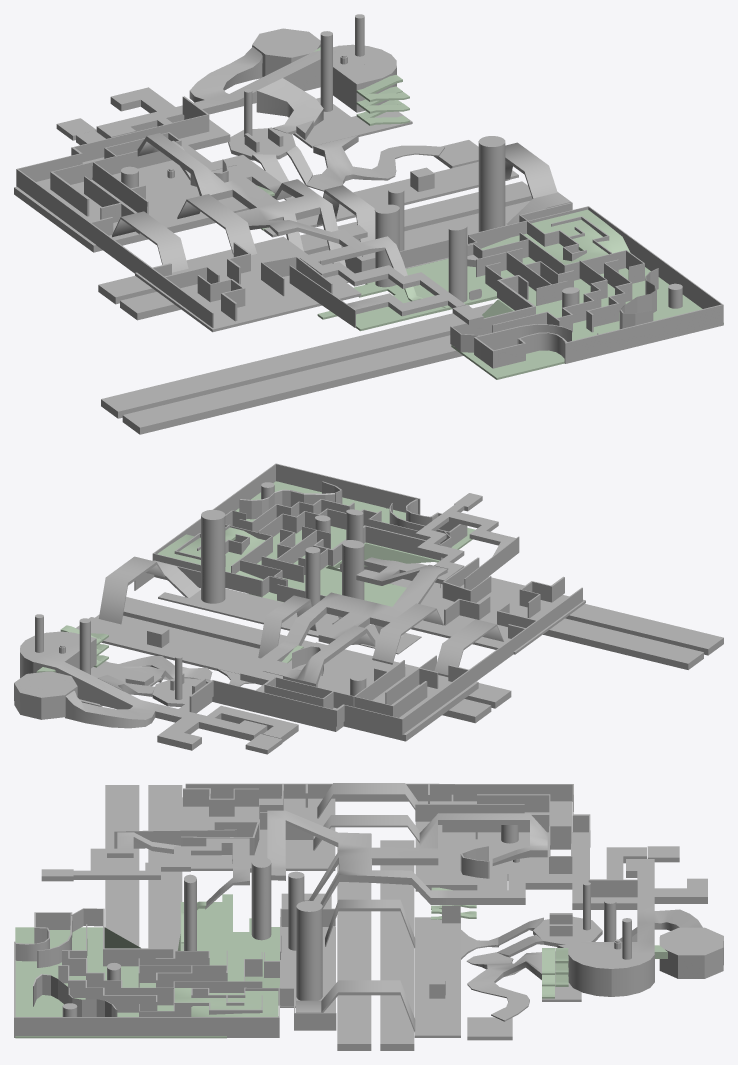
File: level.fbx
The picture shows the model from 3 angles, top to bottom: view 1: azimuth 30°, elevation 25°; view 2: azimuth 150°, elevation 25°; view 3: azimuth 270°, elevation 25°; orthographic projection. The views are drawn at different scales.
Visible parts, largest first — view 1: polySurface1, pCube26, pCube43, pCube44, pCube59, pCube63, pCube34, pCube58, pCube41, pCube12, pCube17, pCylinder5 (+32 smaller); view 2: polySurface1, pCube59, pCube26, pCube34, pCube42, pCube63, pCube58, pCube44, pCube43, pCube17, pCube20, pCube22 (+30 smaller); view 3: polySurface1, pCube26, pCube59, pCube41, pCube34, pCube42, pCube17, pCube63, pCube44, pCube43, polySurface3, pCylinder3 (+37 smaller).
Part boxes in pixels (left/top/right/bottom): polySurface1: left=14, top=46, right=465, bottom=316; pCube26: left=317, top=209, right=723, bottom=379; pCube43: left=122, top=335, right=463, bottom=434; pCube44: left=101, top=303, right=492, bottom=418; pCube59: left=16, top=96, right=219, bottom=327; pCube63: left=135, top=236, right=361, bottom=332; pCube34: left=528, top=206, right=723, bottom=363; pCube58: left=50, top=132, right=181, bottom=216; pCube41: left=98, top=181, right=532, bottom=304; pCube12: left=305, top=135, right=444, bottom=191; pCube17: left=263, top=162, right=518, bottom=237; pCylinder5: left=478, top=136, right=505, bottom=231; polySurface1: left=33, top=503, right=515, bottom=750; pCube59: left=189, top=587, right=582, bottom=735; pCube26: left=157, top=481, right=475, bottom=606; pCube34: left=152, top=463, right=420, bottom=571; pCube42: left=123, top=597, right=511, bottom=708; pCube63: left=411, top=576, right=585, bottom=654; pCube58: left=264, top=660, right=427, bottom=717; pCube44: left=364, top=569, right=703, bottom=669; pCube43: left=364, top=563, right=723, bottom=655; pCube17: left=77, top=617, right=260, bottom=674; pCube20: left=98, top=556, right=200, bottom=624; pCube22: left=158, top=588, right=338, bottom=637; polySurface1: left=73, top=801, right=707, bottom=953; pCube26: left=15, top=894, right=279, bottom=1038; pCube59: left=185, top=783, right=637, bottom=897; pCube41: left=380, top=840, right=414, bottom=1050; pCube34: left=14, top=941, right=279, bottom=1037; pCube42: left=337, top=847, right=371, bottom=1050; pCube17: left=414, top=917, right=460, bottom=1037; pCube63: left=182, top=797, right=335, bottom=870; pCube44: left=148, top=785, right=182, bottom=950; pCube43: left=105, top=785, right=139, bottom=946; polySurface3: left=568, top=954, right=654, bottom=996; pCylinder3: left=659, top=927, right=723, bottom=978.
Size of the model in its own units: 80.16 by 15.1 by 92.83.
